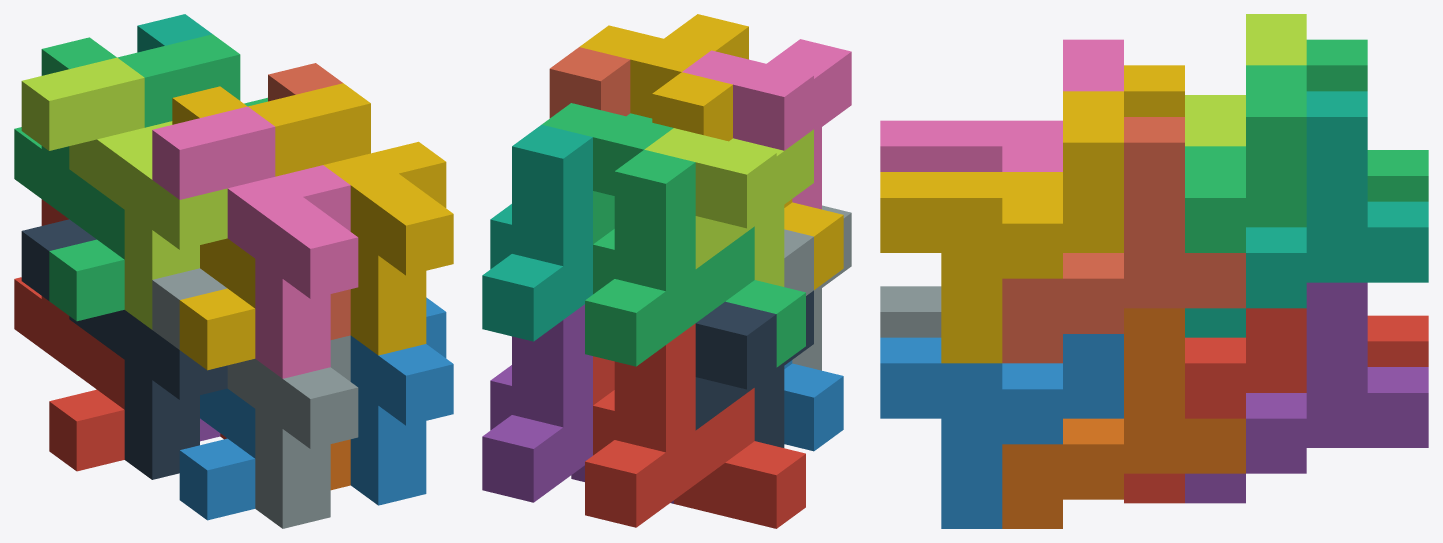
Rendered from tiling.obj.
The picture shows the model from 3 angles, left to right: view 1: azimuth 30°, elevation 25°; view 2: azimuth 150°, elevation 25°; view 3: azimuth 270°, elevation 25°; orthographic projection. The views are drawn at different scales.
Visible parts, largest first — view 1: copy_2_domain_4, copy_2_domain_8, copy_2_domain_3, copy_2_domain_2, copy_2_domain_1, copy_2_domain_6, copy_1_domain_3, copy_1_domain_1, copy_1_domain_4, copy_1_domain_2, copy_2_domain_7, copy_1_domain_8 (+2 smaller); view 2: copy_1_domain_1, copy_1_domain_3, copy_1_domain_7, copy_1_domain_5, copy_2_domain_3, copy_2_domain_4, copy_2_domain_1, copy_1_domain_4, copy_2_domain_8, copy_2_domain_7, copy_1_domain_8, copy_1_domain_2 (+2 smaller); view 3: copy_2_domain_8, copy_2_domain_6, copy_1_domain_8, copy_1_domain_6, copy_1_domain_7, copy_1_domain_5, copy_2_domain_7, copy_2_domain_4, copy_2_domain_5, copy_1_domain_3, copy_2_domain_3, copy_2_domain_2 (+2 smaller).
Part boxes in pixels (x1,y1,x2,y2): copy_2_domain_4: (152,106,358,378); copy_2_domain_8: (248,83,453,355); copy_2_domain_3: (21,57,227,329); copy_2_domain_2: (152,268,358,528); copy_2_domain_1: (21,219,227,479); copy_2_domain_6: (350,297,453,505); copy_1_domain_3: (14,37,124,321); copy_1_domain_1: (14,199,124,471); copy_1_domain_4: (172,86,255,370); copy_1_domain_2: (179,388,255,520); copy_2_domain_7: (117,34,267,127); copy_1_domain_8: (268,63,350,339); copy_1_domain_1: (585,323,805,528); copy_1_domain_3: (585,149,805,367); copy_1_domain_7: (482,124,592,341); copy_1_domain_5: (482,304,673,503); copy_2_domain_3: (644,128,813,286); copy_2_domain_4: (682,39,851,209); copy_2_domain_1: (695,290,813,447); copy_1_domain_4: (652,72,843,289); copy_2_domain_8: (579,14,748,118); copy_2_domain_7: (542,103,673,243); copy_1_domain_8: (549,47,630,118); copy_1_domain_2: (784,360,843,451); copy_2_domain_8: (880,91,1123,363); copy_2_domain_6: (880,334,1123,528); copy_1_domain_8: (1002,117,1245,363); copy_1_domain_6: (1002,308,1245,528); copy_1_domain_7: (1185,91,1428,337); copy_1_domain_5: (1185,282,1428,503); copy_2_domain_7: (1185,65,1306,252); copy_2_domain_4: (880,39,1123,171); copy_2_domain_5: (1124,308,1306,503); copy_1_domain_3: (1306,39,1428,201); copy_2_domain_3: (1185,14,1306,146); copy_2_domain_2: (880,286,941,337).
Bounding box in the file's own units: 6 × 7 × 9.
